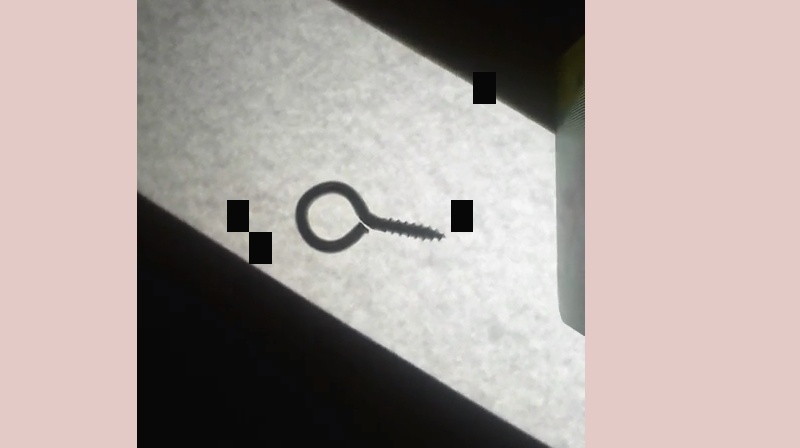O001: (293, 175, 448, 257)
